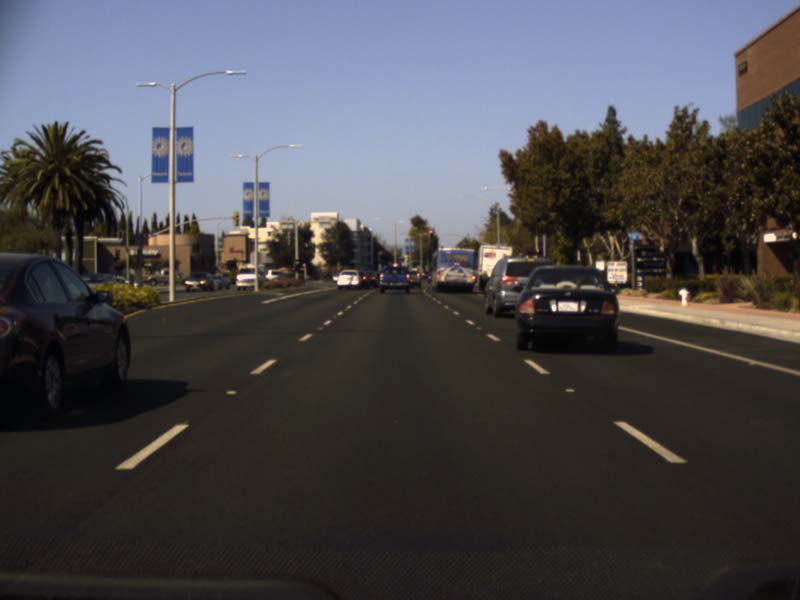Red: (428, 229, 433, 239), (295, 260, 298, 270), (534, 248, 539, 253)
